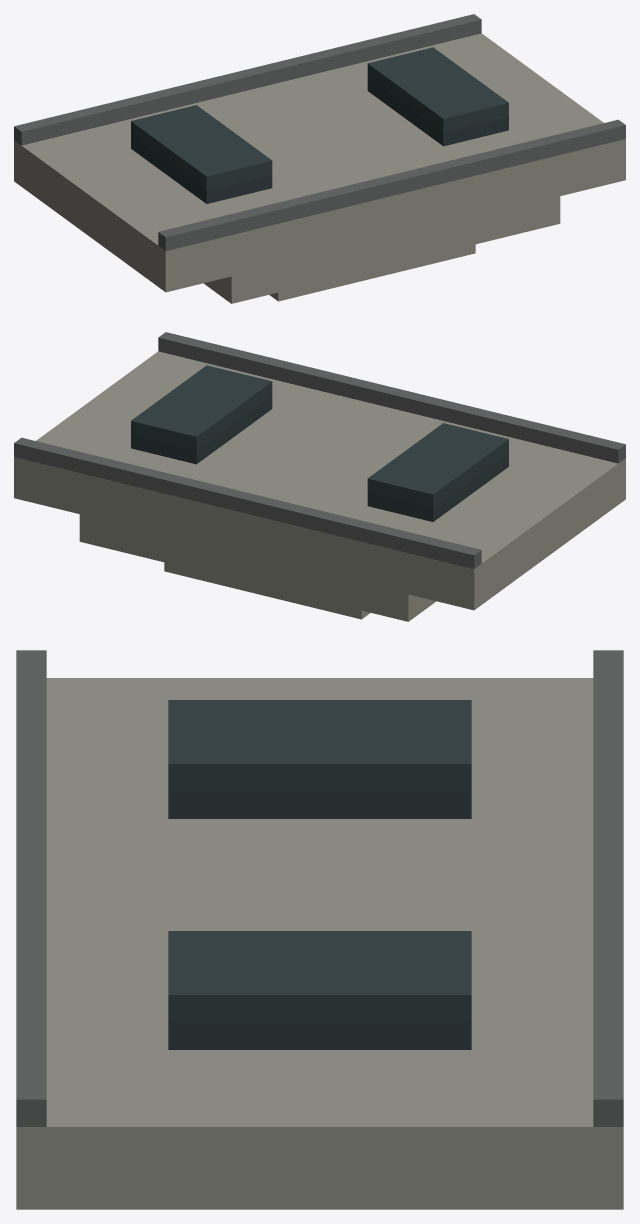
The model's file is BUILT-138.glb.
3 renders of one model, top to bottom at view 1: azimuth 30°, elevation 25°; view 2: azimuth 150°, elevation 25°; view 3: azimuth 270°, elevation 25°, orthographic. The views are drawn at different scales.
Parts seen in each view (by area): view 1: 既有高架路轨墩帽显示件; view 2: 既有高架路轨墩帽显示件; view 3: 既有高架路轨墩帽显示件.
Part boxes in pixels (box(x1,y1,x2,y2)): 既有高架路轨墩帽显示件: box(14, 14, 625, 303); 既有高架路轨墩帽显示件: box(14, 332, 625, 621); 既有高架路轨墩帽显示件: box(16, 650, 623, 1209).
Bounding box in the file's own units: 7 × 1.8 × 4.
4 materials, 4 textured.
